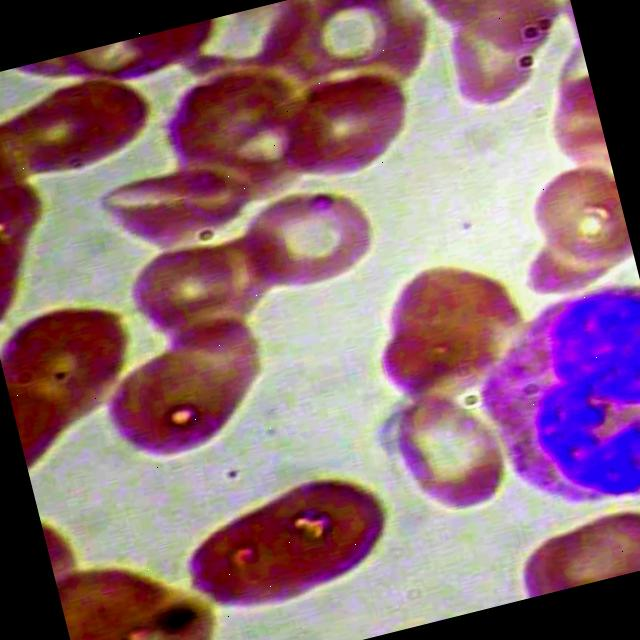RBC: (236, 458, 402, 614), (157, 485, 324, 640), (92, 327, 258, 482), (370, 239, 532, 379), (232, 171, 396, 302), (264, 57, 428, 188), (378, 382, 521, 532), (0, 59, 163, 190), (114, 219, 261, 351), (514, 154, 634, 282), (507, 493, 640, 599), (407, 0, 572, 75)
WBC: (460, 270, 640, 528)
